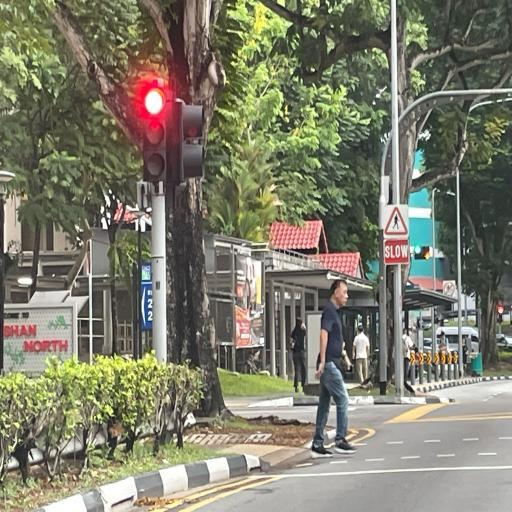person_right: (308, 272, 362, 462)
